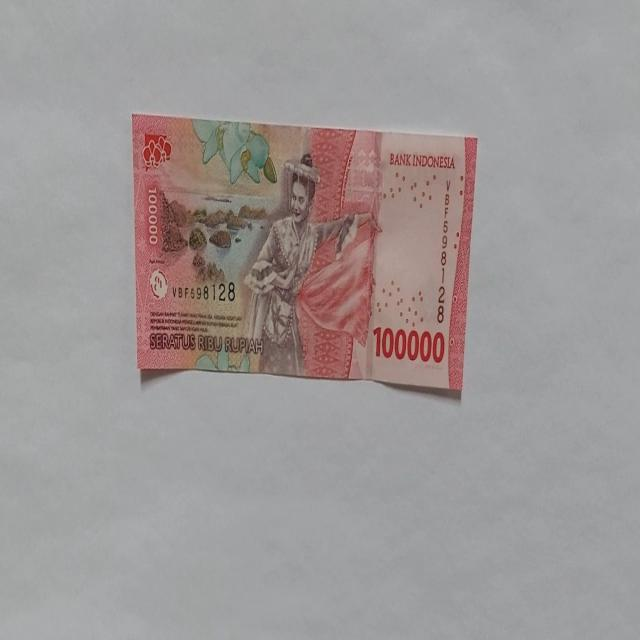seratus ribu rupiah: (132, 112, 478, 398), (242, 153, 358, 376)
